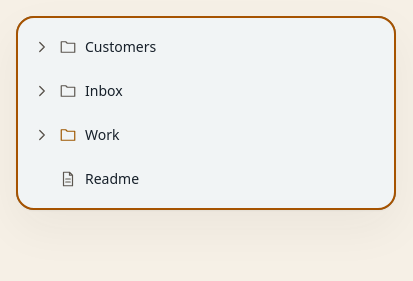
Test: NotesTree › shows a failed folder in place and tries only that folder again
The image size is (413, 281).
Click the list item "Inbox" at x=78, y=91, box [33,81,123,100]
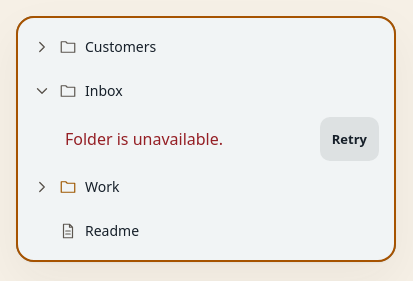
Expected: the list item "Readme" is shown, [59,221,139,240]
Now the message reads "Folder is unavailable.", box [65,128,223,150]
Click the button "Retry" at x=349, y=139, box [320,117,379,161]
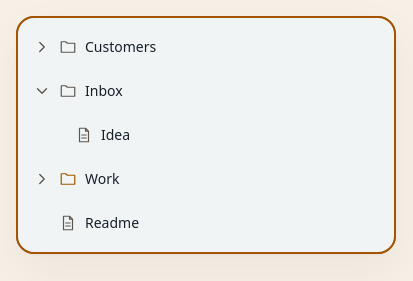
Now the list item "Idea" is shown, box [75,125,130,144]
Now the message "Folder is unavailable." is gone
